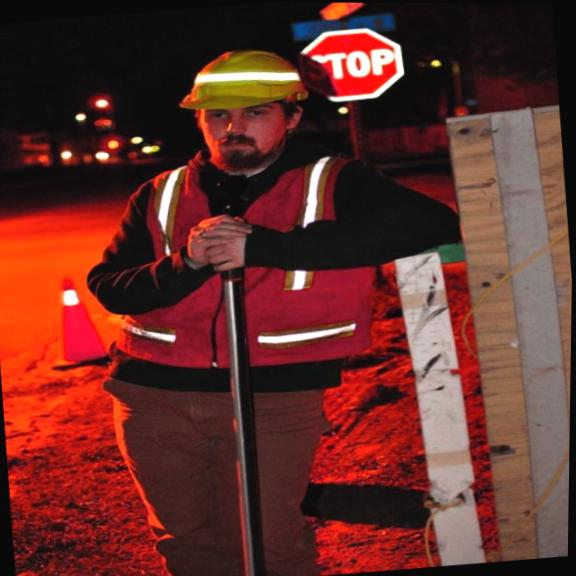safety_vest: (114, 142, 393, 384)
